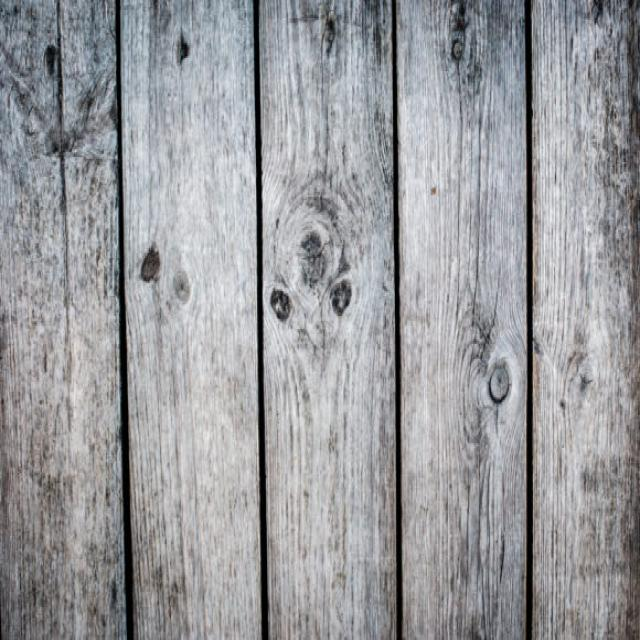have-wooden-eyes: (489, 365, 509, 402), (330, 281, 351, 314), (141, 247, 160, 282), (271, 289, 291, 320), (182, 34, 189, 61), (452, 41, 462, 59)
perfect-wooden-plate: (0, 2, 126, 638), (531, 2, 640, 638)
